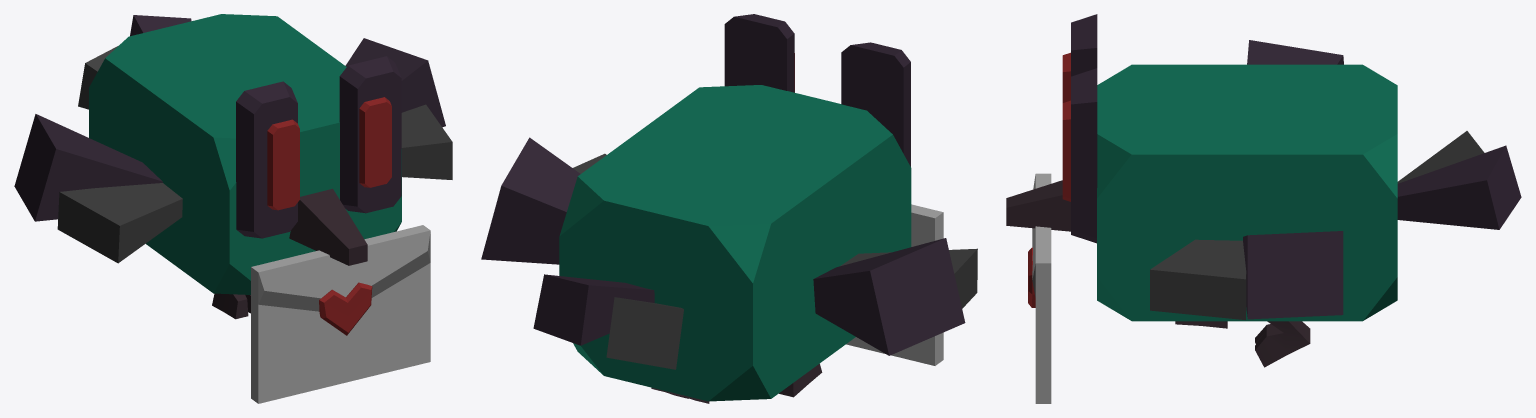
The model's file is enemy_bird_01.fbx.
3 renders of one model, left to right at view 1: azimuth 30°, elevation 25°; view 2: azimuth 150°, elevation 25°; view 3: azimuth 270°, elevation 25°, orthographic. The views are drawn at different scales.
Visible parts, largest first — view 1: enemy_bird_01_mesh; view 2: enemy_bird_01_mesh; view 3: enemy_bird_01_mesh.
Boxes of the visible parts, x1=… form: enemy_bird_01_mesh: x1=14, y1=14, x2=452, y2=403; enemy_bird_01_mesh: x1=481, y1=14, x2=977, y2=403; enemy_bird_01_mesh: x1=1006, y1=14, x2=1521, y2=403.
Bounding box in the file's own units: 0.9796 × 0.6607 × 1.
